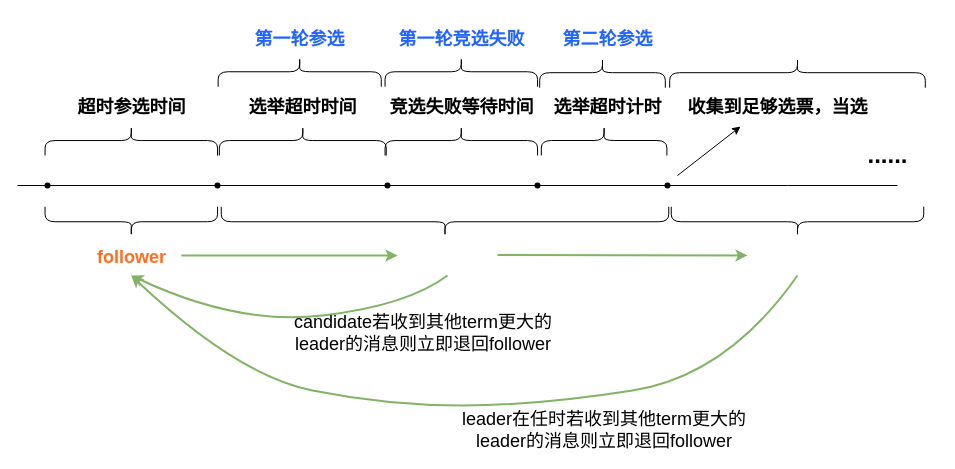
This 955x469 diagram has some shape labels left out. Here are the shapes that lost their labels. From the top down, the centre of each, then its label:
pixel 797 72: 第二轮竞选成功，停止超时检测
pixel 444 221: candidate
pixel 797 221: leader
